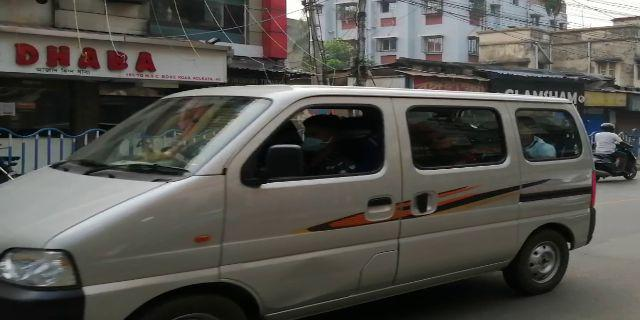Motorbike: (584, 122, 637, 183)
Van: (1, 89, 596, 320)
